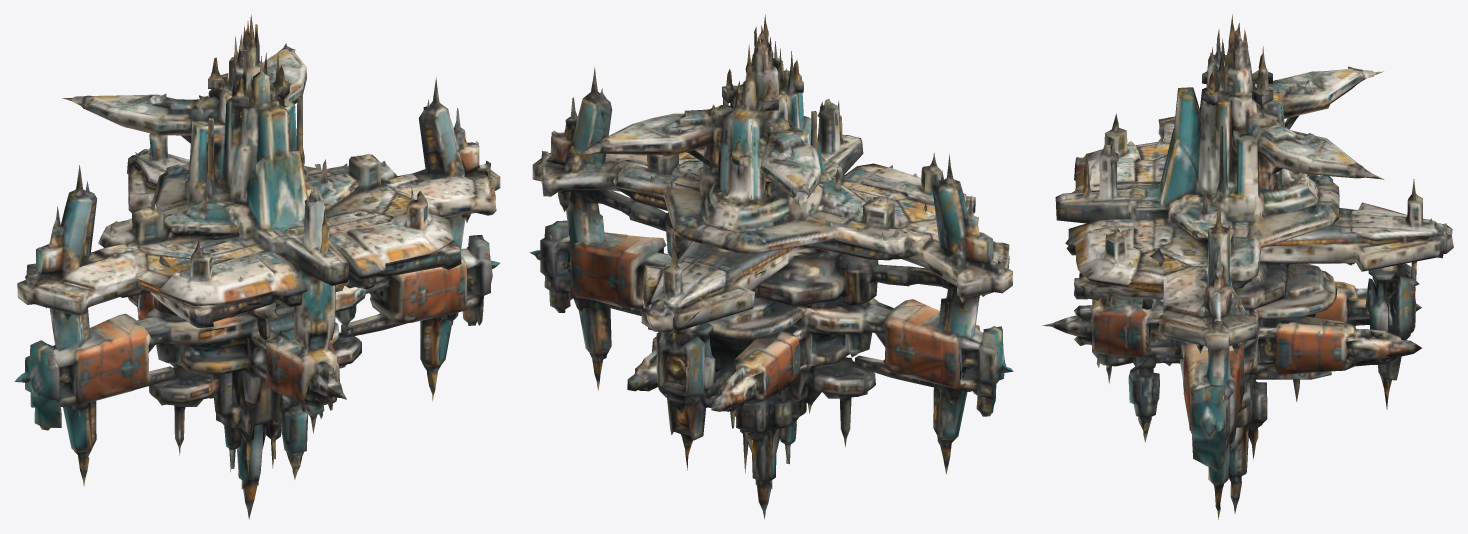
Rendered from HL_Station_Liberator_Capital_retopo.glb.
The picture shows the model from 3 angles, left to right: view 1: azimuth 30°, elevation 25°; view 2: azimuth 150°, elevation 25°; view 3: azimuth 270°, elevation 25°; orthographic projection.
Visible parts, largest first — view 1: HL_Station_Liberator_Capital_retopo; view 2: HL_Station_Liberator_Capital_retopo; view 3: HL_Station_Liberator_Capital_retopo.
Part boxes in pixels (x1,y1,x2,y2): HL_Station_Liberator_Capital_retopo: (14,14,500,519); HL_Station_Liberator_Capital_retopo: (529,14,1013,518); HL_Station_Liberator_Capital_retopo: (1042,14,1453,519).
Size of the model in its own units: 0.9785 by 0.9742 by 0.7255.
Materials: 1 (1 with a texture image).
